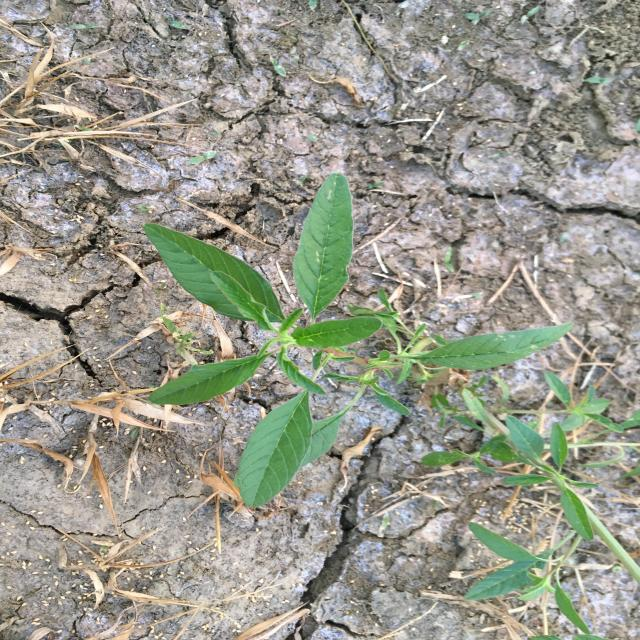Waterhemp: (143, 174, 575, 508), (419, 371, 640, 640)
